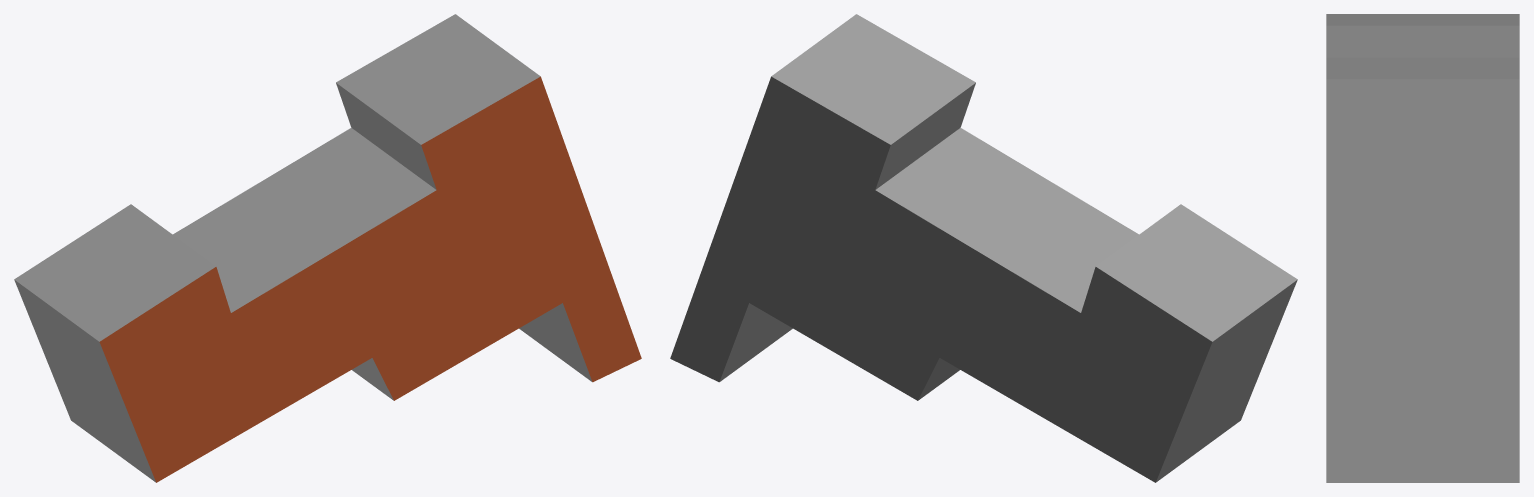
The model's file is construction_1778_assumed_A_Casa_h6m.obj.
The picture shows the model from 3 angles, left to right: view 1: azimuth 30°, elevation 25°; view 2: azimuth 150°, elevation 25°; view 3: azimuth 270°, elevation 25°; orthographic projection. The views are drawn at different scales.
Parts seen in each view (by area): view 1: construction_1778_assumed_A_Casa; view 2: construction_1778_assumed_A_Casa; view 3: construction_1778_assumed_A_Casa.
Part boxes in pixels (x1,y1,x2,y2): construction_1778_assumed_A_Casa: [14, 14, 641, 482]; construction_1778_assumed_A_Casa: [670, 14, 1297, 482]; construction_1778_assumed_A_Casa: [1326, 14, 1519, 482].
Size of the model in its own units: 22.02 by 12.36 by 6.
